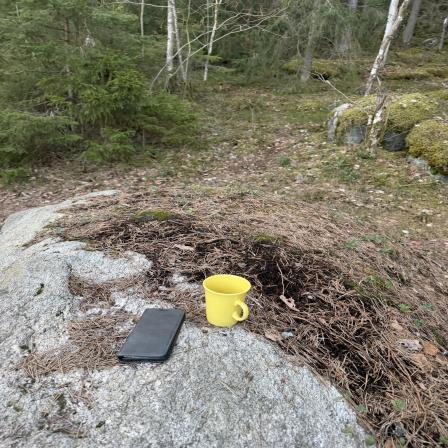phone: (124, 307, 187, 362)
yellow_cup: (203, 272, 254, 329)
